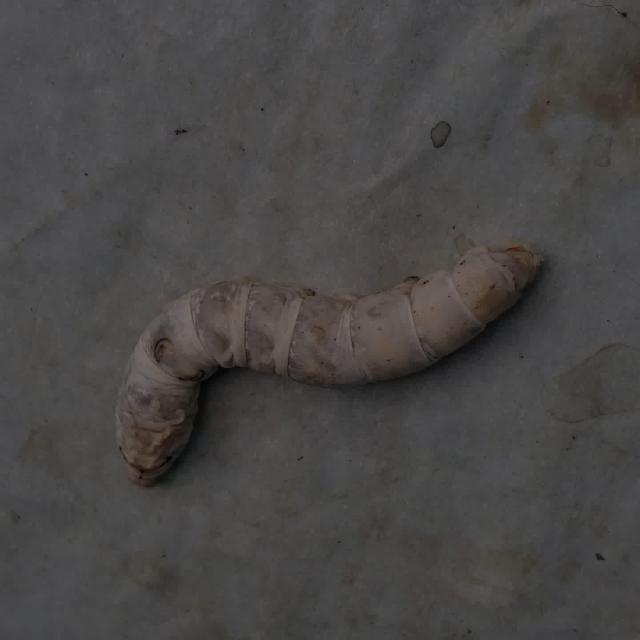Grasserie: (79, 198, 605, 510)
